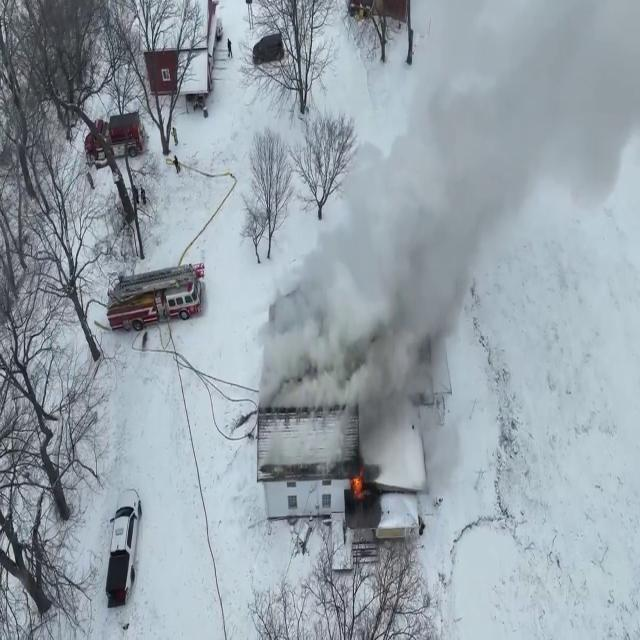Smoke: (253, 1, 580, 483)
